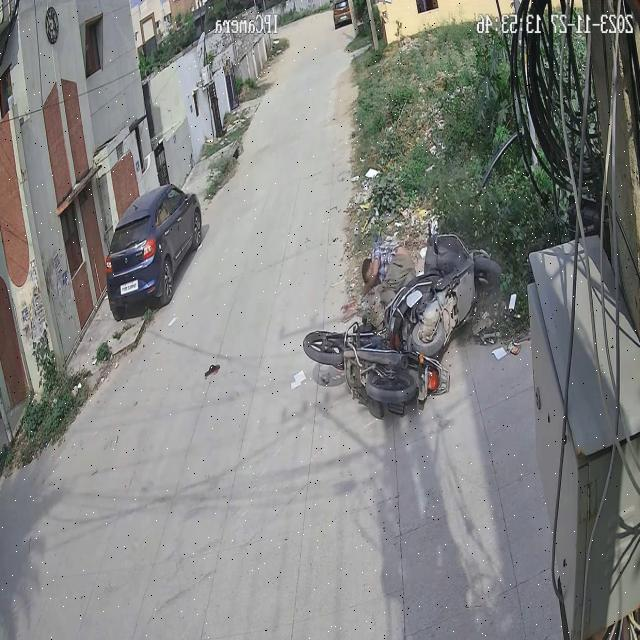accident: (298, 210, 509, 418)
